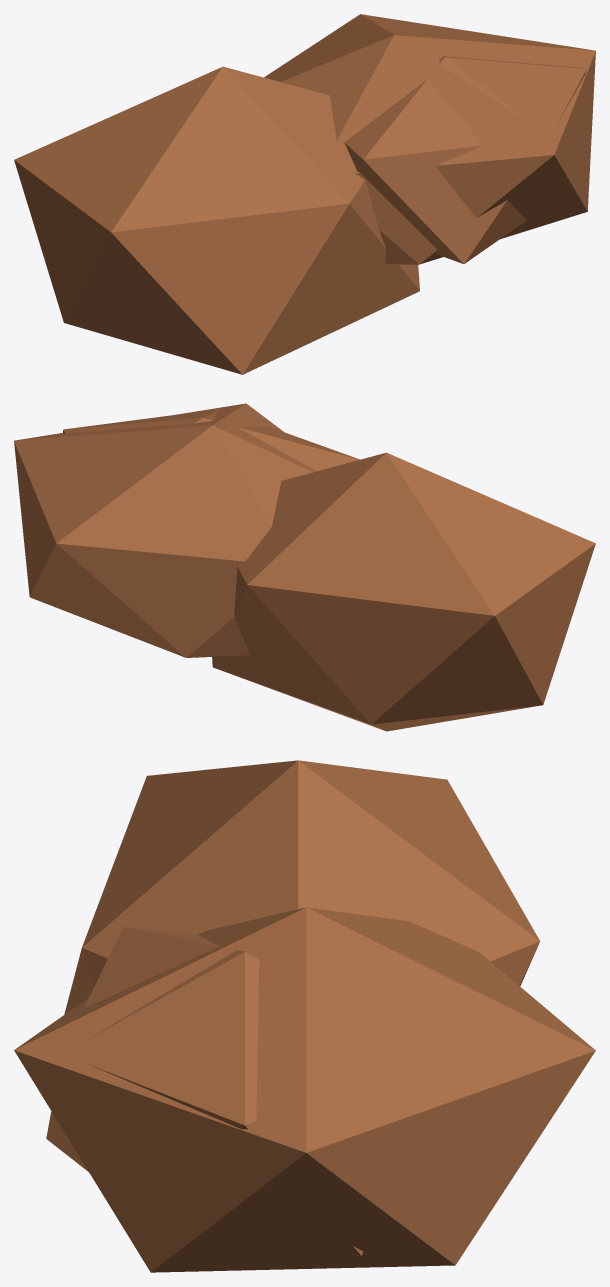
The model's file is Canyon_Rock0.fbx.
3 renders of one model, top to bottom at view 1: azimuth 30°, elevation 25°; view 2: azimuth 150°, elevation 25°; view 3: azimuth 270°, elevation 25°, orthographic. The views are drawn at different scales.
Visible parts, largest first — view 1: Canyon_Rock0; view 2: Canyon_Rock0; view 3: Canyon_Rock0.
Boxes of the visible parts, x1,y1,x2,y2 form: Canyon_Rock0: [14, 14, 595, 374]; Canyon_Rock0: [14, 403, 595, 731]; Canyon_Rock0: [14, 760, 595, 1272].
Size of the model in its own units: 3.75 by 1.89 by 2.34.
